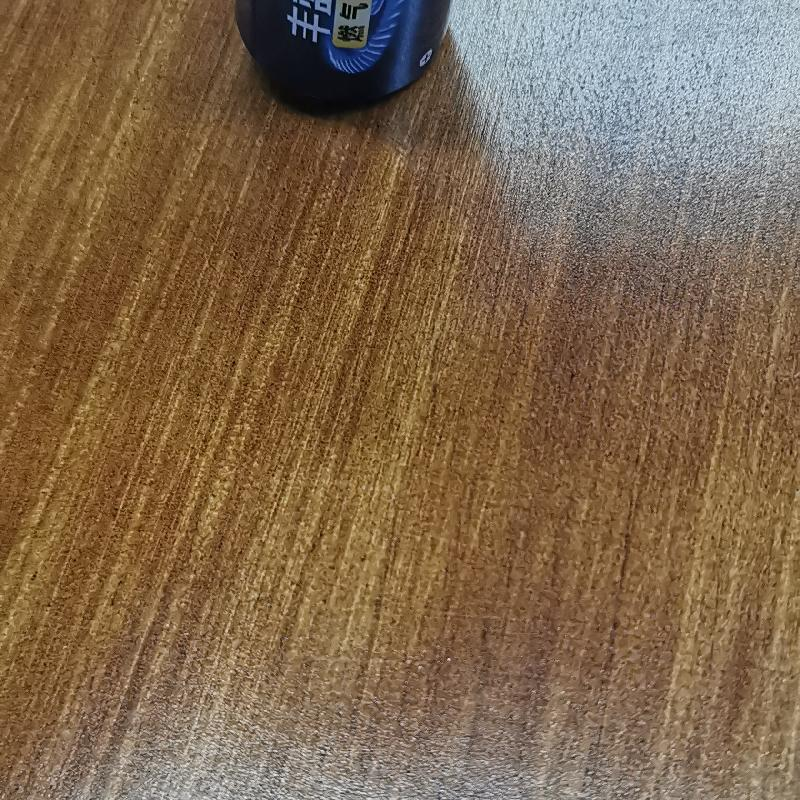battery: (230, 1, 459, 115)
